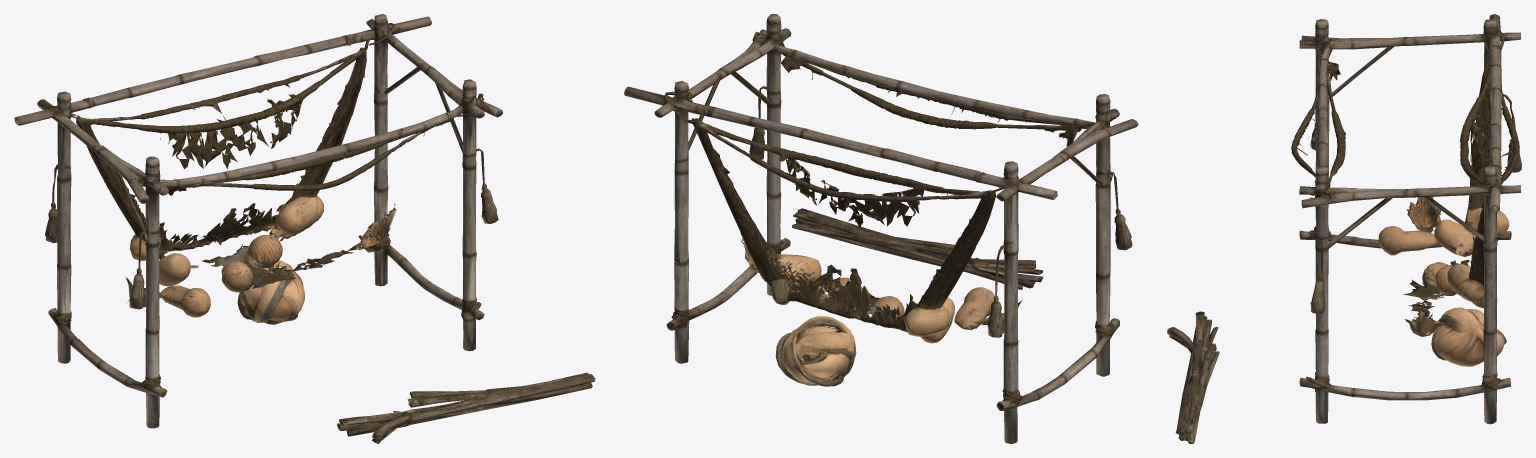
Rendered from net-rack.glb.
3 renders of one model, left to right at view 1: azimuth 30°, elevation 25°; view 2: azimuth 150°, elevation 25°; view 3: azimuth 270°, elevation 25°, orthographic. The views are drawn at different scales.
Visible parts, largest first — view 1: output_unwrapped; view 2: output_unwrapped; view 3: output_unwrapped.
Part boxes in pixels (x1,y1,x2,y2): output_unwrapped: (14, 14, 595, 443); output_unwrapped: (624, 14, 1138, 443); output_unwrapped: (1167, 14, 1521, 443).
Size of the model in its own units: 3.55 by 2.2 by 2.79.
Materials: 1 (1 with a texture image).
